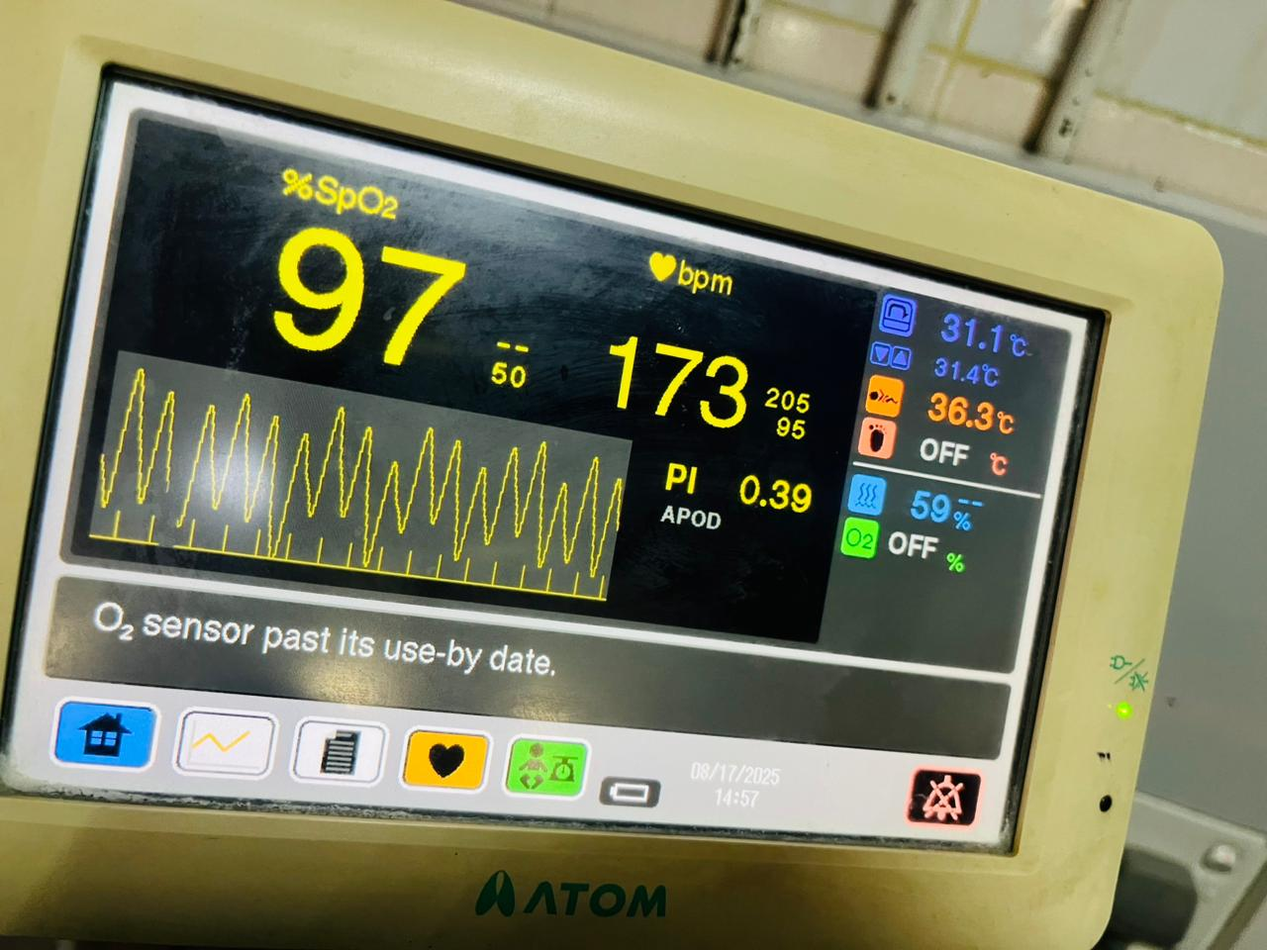air_temp_value: (931, 293, 1024, 351)
heart_rate_value: (605, 323, 766, 409)
humidity_value: (892, 480, 964, 531)
skin_temp_value: (924, 381, 999, 424)
spo2_value: (258, 207, 474, 348)
